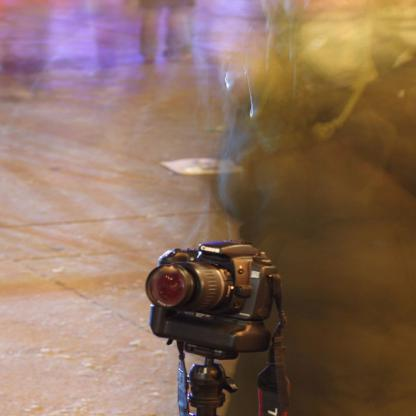Camera: (144, 231, 284, 360)
